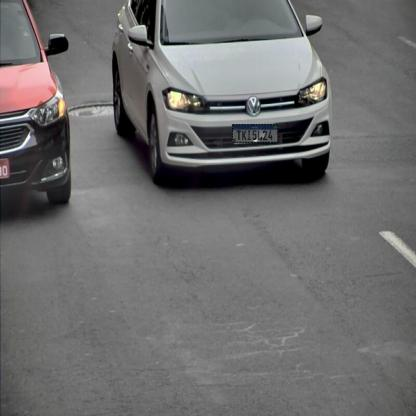PlacaM: (232, 124, 278, 143)
